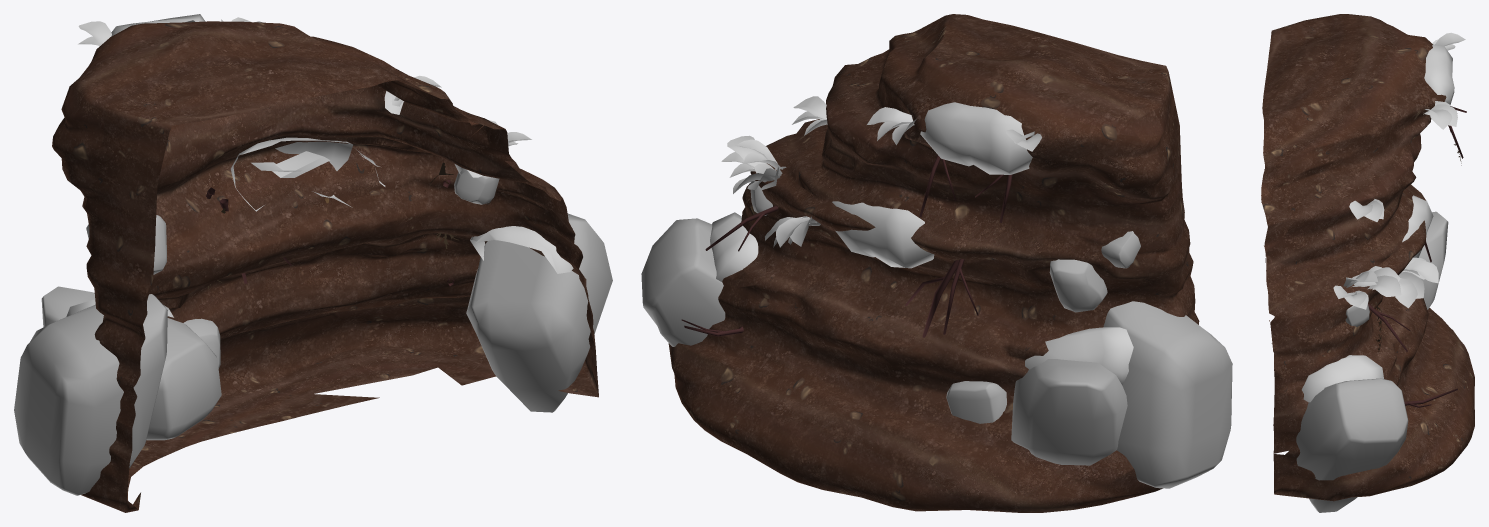
The model's file is Jordvgg_left.fbx.
The picture shows the model from 3 angles, left to right: view 1: azimuth 30°, elevation 25°; view 2: azimuth 150°, elevation 25°; view 3: azimuth 270°, elevation 25°; orthographic projection. The views are drawn at different scales.
Parts seen in each view (by area): view 1: Cliffstone:pPlane146; view 2: Cliffstone:pPlane146; view 3: Cliffstone:pPlane146.
Boxes of the visible parts, box(x1,y1,x2,y2) form: Cliffstone:pPlane146: box(14, 14, 612, 512); Cliffstone:pPlane146: box(641, 14, 1232, 512); Cliffstone:pPlane146: box(1261, 14, 1474, 512).
Bounding box in the file's own units: 587 × 434 × 242.
